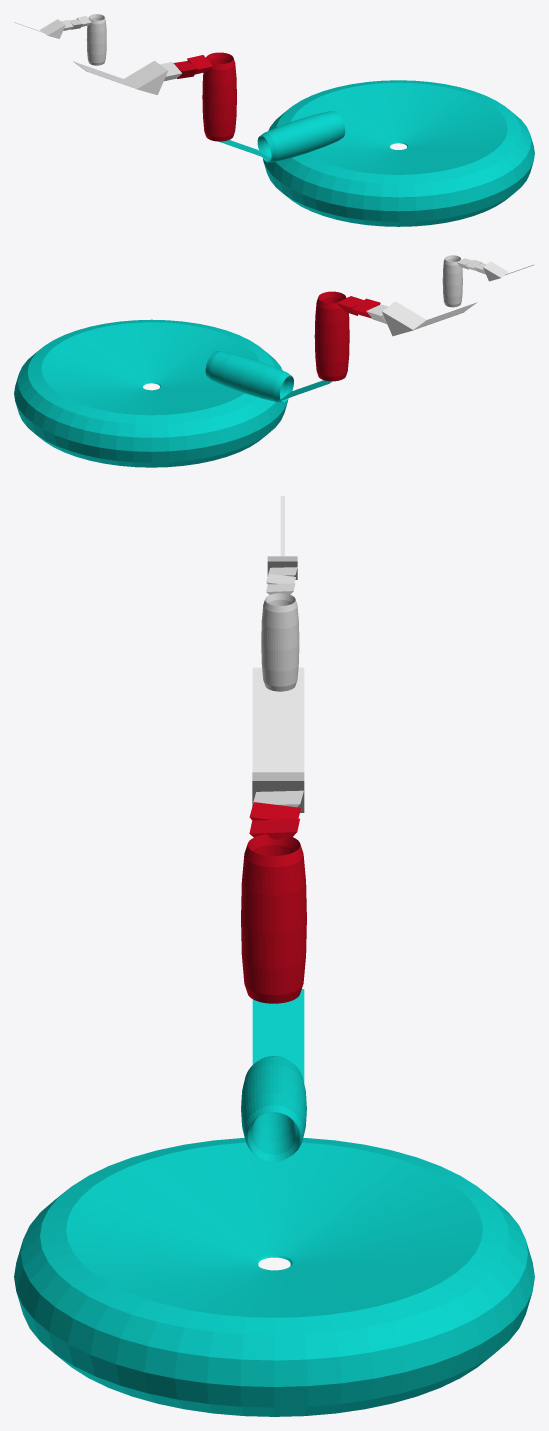
The model's file is LEVEL (1).Fbx.
3 renders of one model, top to bottom at view 1: azimuth 30°, elevation 25°; view 2: azimuth 150°, elevation 25°; view 3: azimuth 270°, elevation 25°, orthographic. The views are drawn at different scales.
Parts seen in each view (by area): view 1: Torus.004, Torus.002, Torus.001, Torus, Cube.012, Cube.013, Cube.001, Cube.007, Cube.009; view 2: Torus.004, Torus.002, Torus.001, Torus, Cube.012, Cube.013, Cube.001, Cube.007, Cube.009, Cube.014; view 3: Torus.004, Torus.001, Torus.002, Cube.013, Torus, Cube.014, Cube.012.
Part boxes in pixels (<box>): Torus.004: <box>263,80,534,226</box>; Torus.002: <box>257,111,345,162</box>; Torus.001: <box>202,52,236,141</box>; Torus: <box>86,14,106,65</box>; Cube.012: <box>124,60,167,94</box>; Cube.013: <box>73,61,136,88</box>; Cube.001: <box>40,19,65,38</box>; Cube.007: <box>187,55,213,74</box>; Cube.009: <box>173,61,198,78</box>; Torus.004: <box>14,319,288,467</box>; Torus.002: <box>205,351,293,402</box>; Torus.001: <box>314,291,349,381</box>; Torus: <box>442,255,462,307</box>; Cube.012: <box>382,301,426,336</box>; Cube.013: <box>413,302,477,330</box>; Cube.001: <box>483,261,508,281</box>; Cube.007: <box>337,296,363,315</box>; Cube.009: <box>352,298,380,318</box>; Cube.014: <box>278,380,332,401</box>; Torus.004: <box>14,1138,534,1416</box>; Torus.001: <box>241,834,306,1003</box>; Torus.002: <box>241,1056,306,1161</box>; Cube.013: <box>252,667,304,772</box>; Torus: <box>261,593,299,691</box>; Cube.014: <box>252,989,304,1083</box>; Cube.012: <box>252,772,304,812</box>.
Size of the model in its own units: 72315 by 34202 by 34178.
